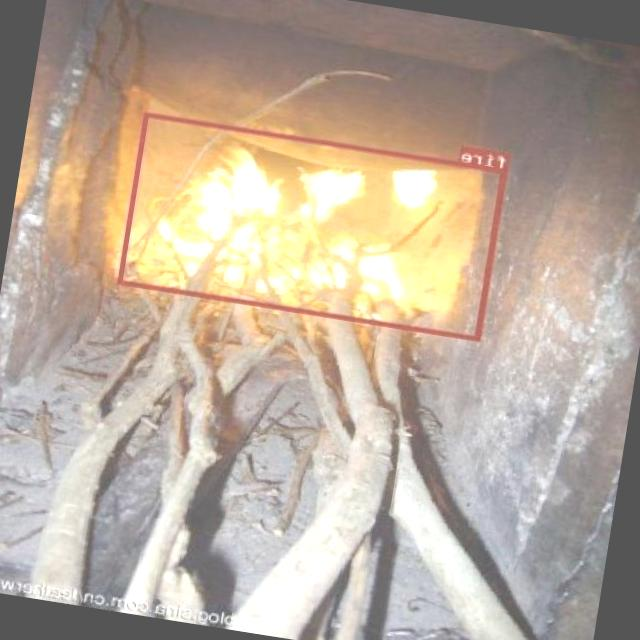fire: (118, 112, 509, 341)
